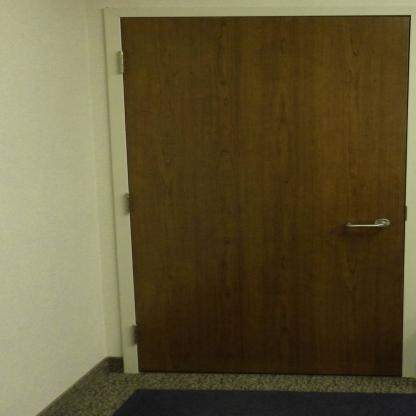door: (116, 11, 400, 362)
hinged: (122, 190, 136, 216), (115, 50, 130, 74), (133, 324, 144, 346)
lever: (340, 218, 393, 232)
